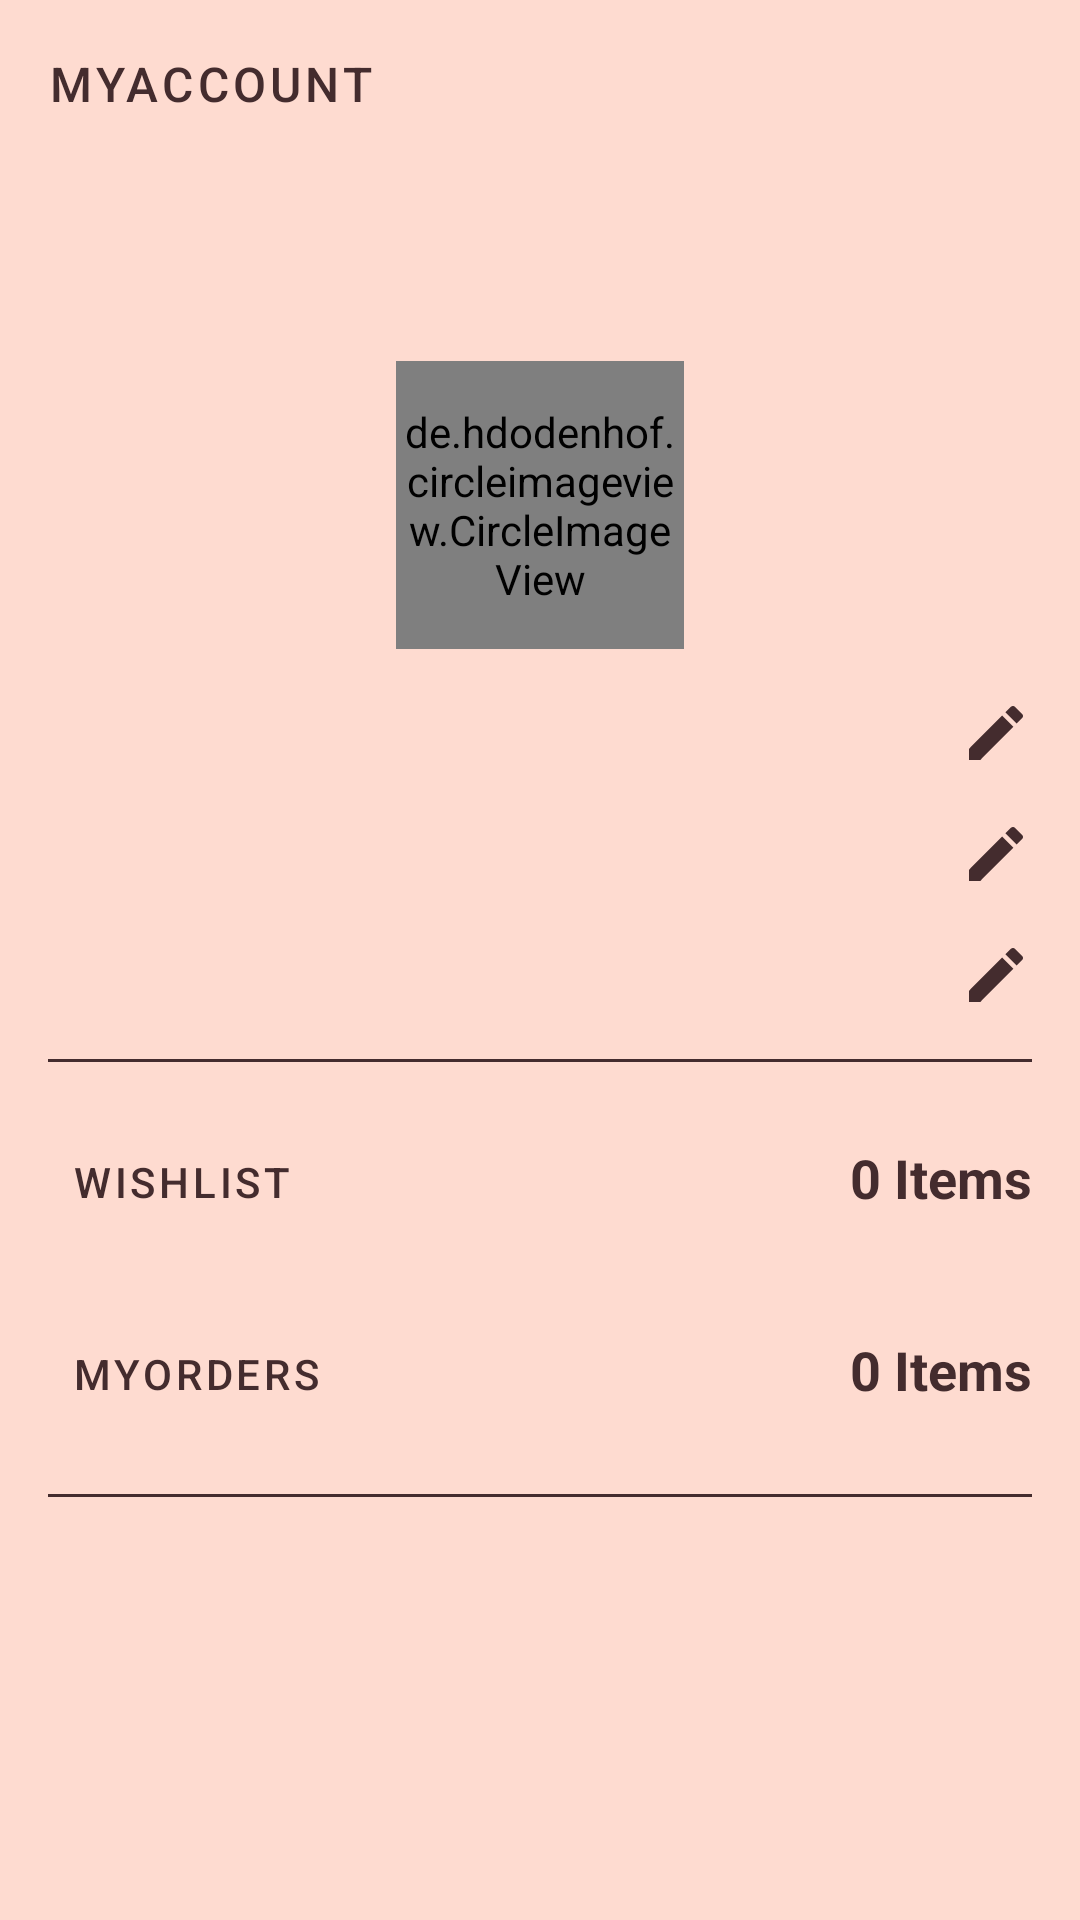

Where to tap for icons on this 1080w x 1920h app screen, as (x=x, y=y):
edit: (x=996, y=733), (x=996, y=854), (x=996, y=975)
